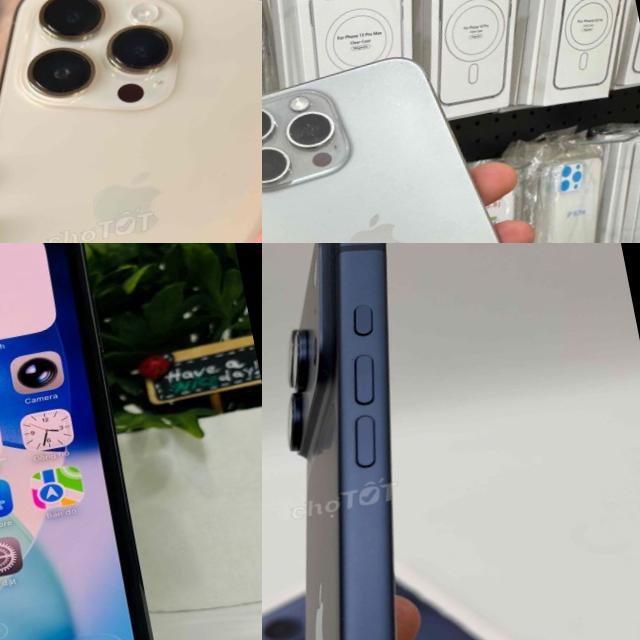gen_11: (0, 243, 180, 640)
gen_14: (0, 0, 262, 243)
gen_15: (262, 28, 579, 243)
gen_17: (262, 243, 543, 640)
